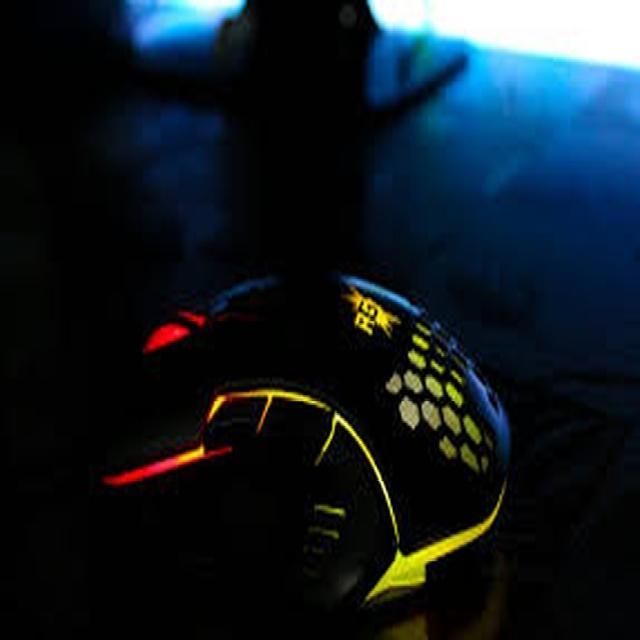mouse: (85, 245, 533, 595)
